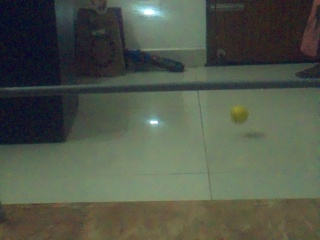ball: (230, 105, 248, 123)
